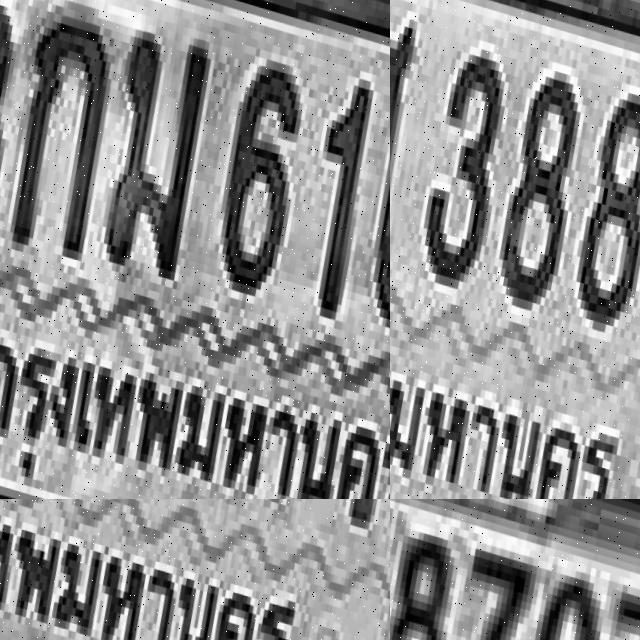license-plate: (0, 0, 390, 499), (390, 0, 640, 499), (0, 499, 390, 640), (390, 499, 640, 640)
